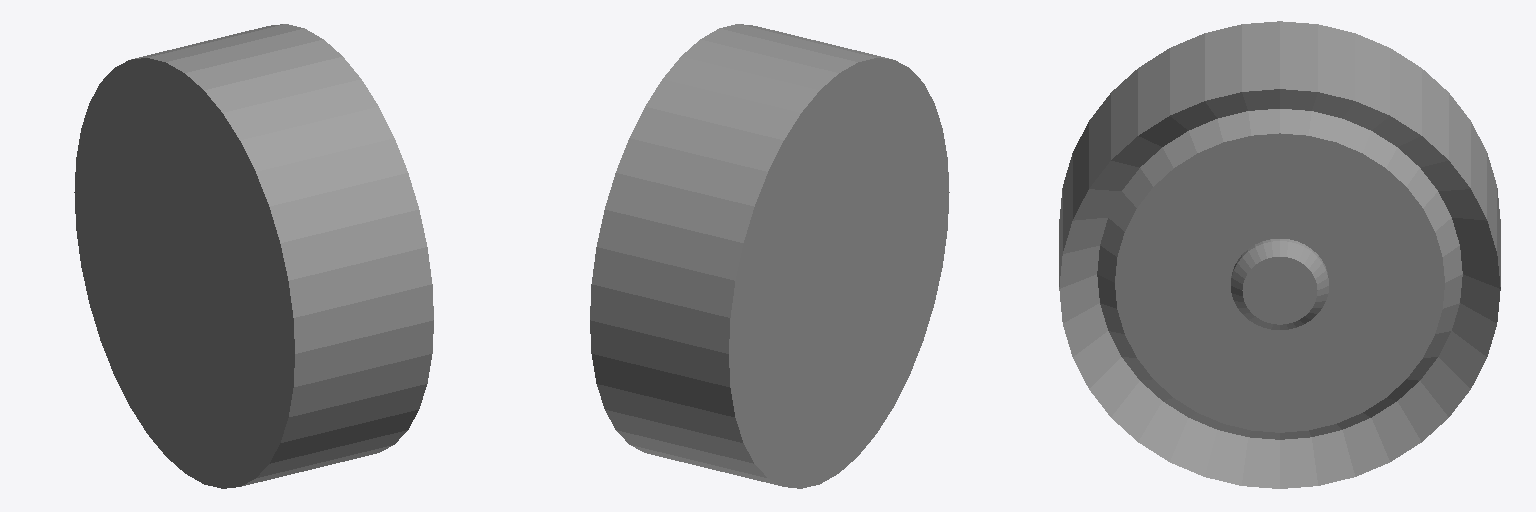
Rendered from stapler_reel_back_in.obj.
The picture shows the model from 3 angles: view 1: azimuth 30°, elevation 25°; view 2: azimuth 150°, elevation 25°; view 3: azimuth 270°, elevation 25°; orthographic projection.
Parts seen in each view (by area): view 1: backreel_in_Cylinder_1.000; view 2: backreel_in_Cylinder_1.000; view 3: backreel_in_Cylinder_1.000.
Part boxes in pixels (x1,y1,x2,y2): backreel_in_Cylinder_1.000: (74, 24, 433, 488); backreel_in_Cylinder_1.000: (590, 24, 949, 488); backreel_in_Cylinder_1.000: (1059, 21, 1500, 488).
Bounding box in the file's own units: 0.6541 × 1.76 × 1.76.